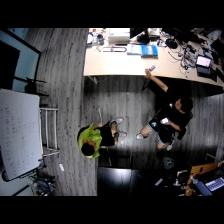normal: (143, 87, 196, 151), (77, 115, 130, 154)
